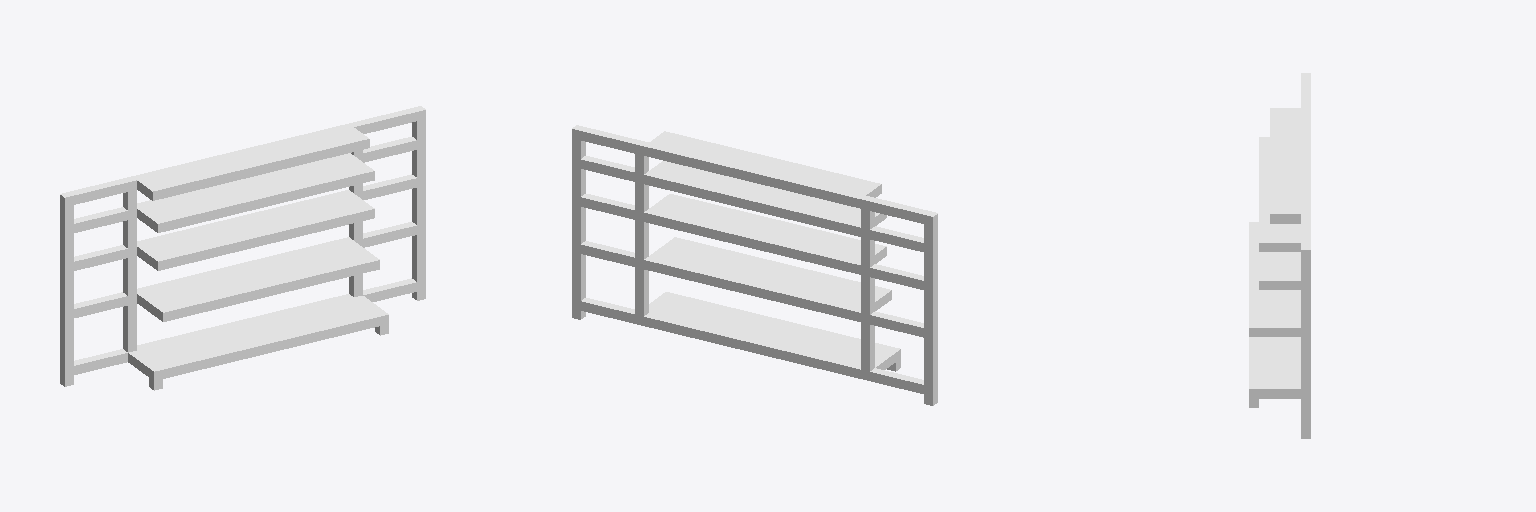
The model's file is store_rack_3.obj.
3 views of the same model, side by side, from view 1: azimuth 30°, elevation 25°; view 2: azimuth 150°, elevation 25°; view 3: azimuth 270°, elevation 25° (orthographic).
Visible parts, largest first — view 1: store_rack_3; view 2: store_rack_3; view 3: store_rack_3.
Boxes of the visible parts, x1,y1,x2,y2 form: store_rack_3: [60, 106, 425, 390]; store_rack_3: [572, 125, 937, 405]; store_rack_3: [1249, 73, 1310, 438].
Size of the model in its own units: 40 by 20 by 6.